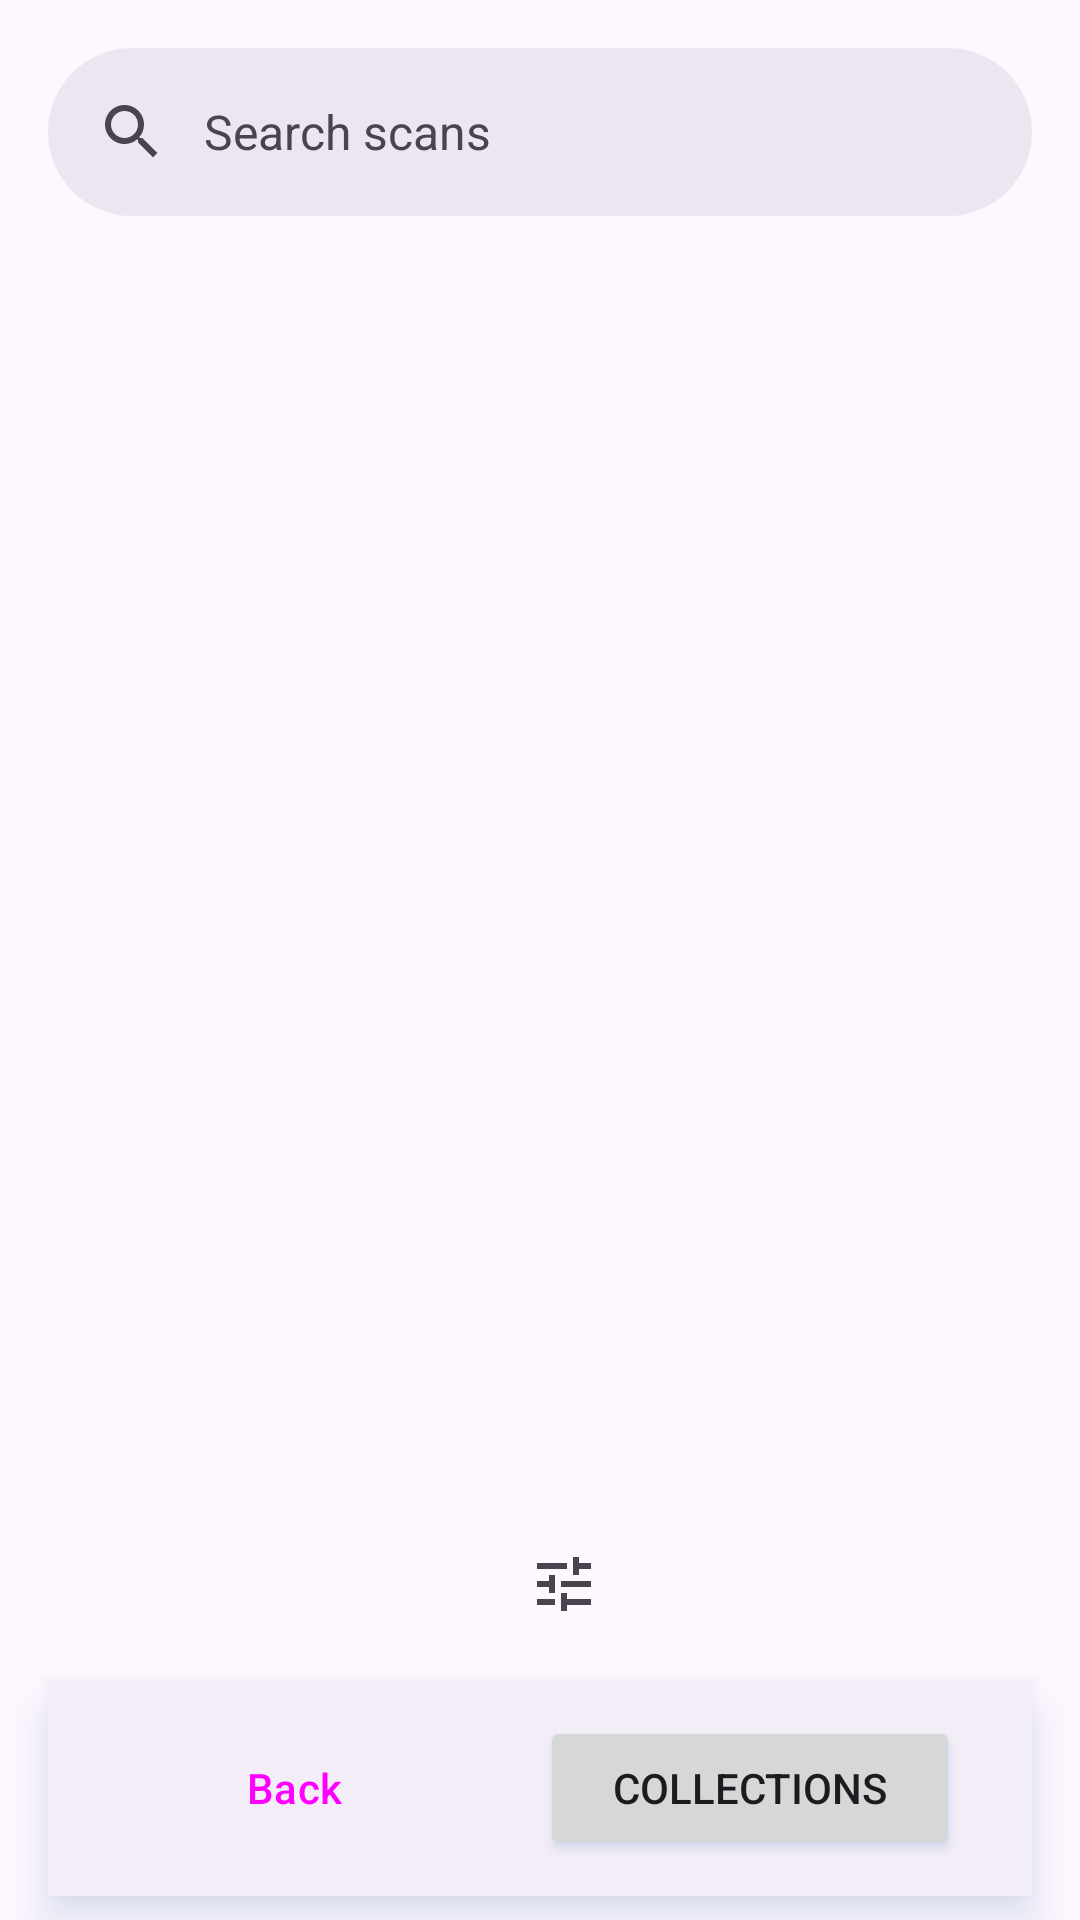

Point at icon controls on the screen. Image size 1080px x 1920px, points as point (x, y).
Completed Scan cleanup settings: point (564, 1584)
